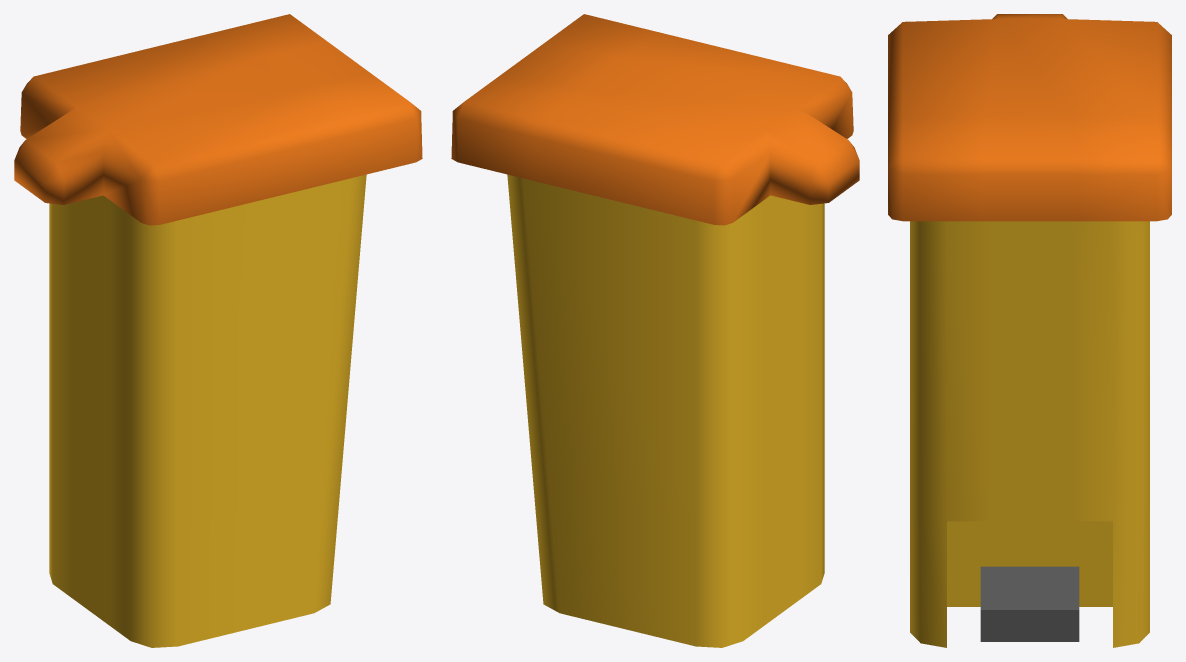
Rendered from Trashbin.fbx.
3 renders of one model, left to right at view 1: azimuth 30°, elevation 25°; view 2: azimuth 150°, elevation 25°; view 3: azimuth 270°, elevation 25°, orthographic. The views are drawn at different scales.
Parts seen in each view (by area): view 1: Cube; view 2: Cube; view 3: Cube.
Boxes of the visible parts, <box> form: Cube: <box>14,14,422,647</box>; Cube: <box>451,14,859,647</box>; Cube: <box>888,14,1171,647</box>.
Bounding box in the file's own units: 65.23 × 92.88 × 45.33.
